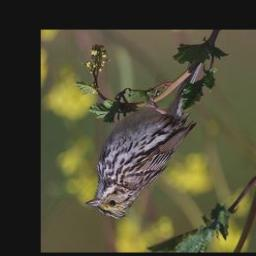Sparrow: (83, 62, 208, 223)
